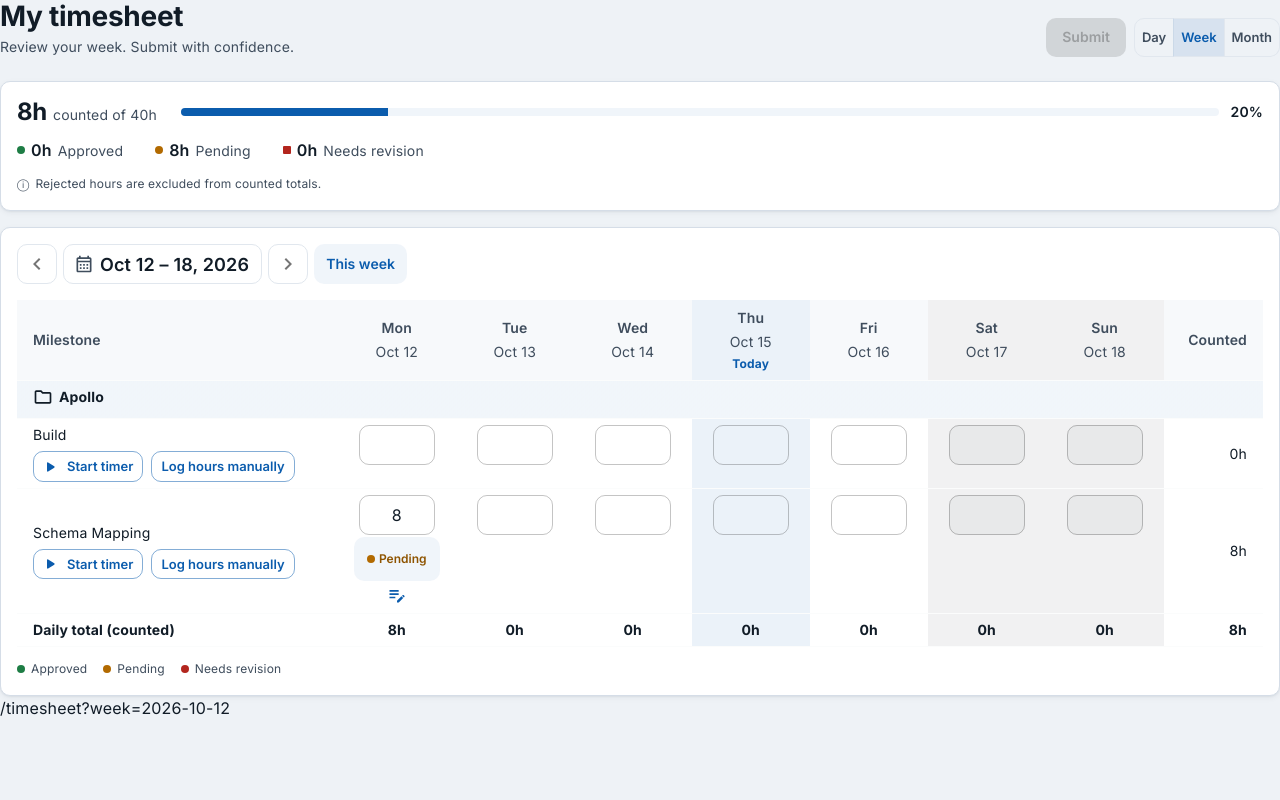
unsaved typing is kept in this tab › discarding on a week change removes that week's key
The width and height of the screenshot is (1280, 800).
Step 1. Type "9" into the field named "Schema Mapping, Tue Oct 13" → (515, 515), box [477,495,553,535]
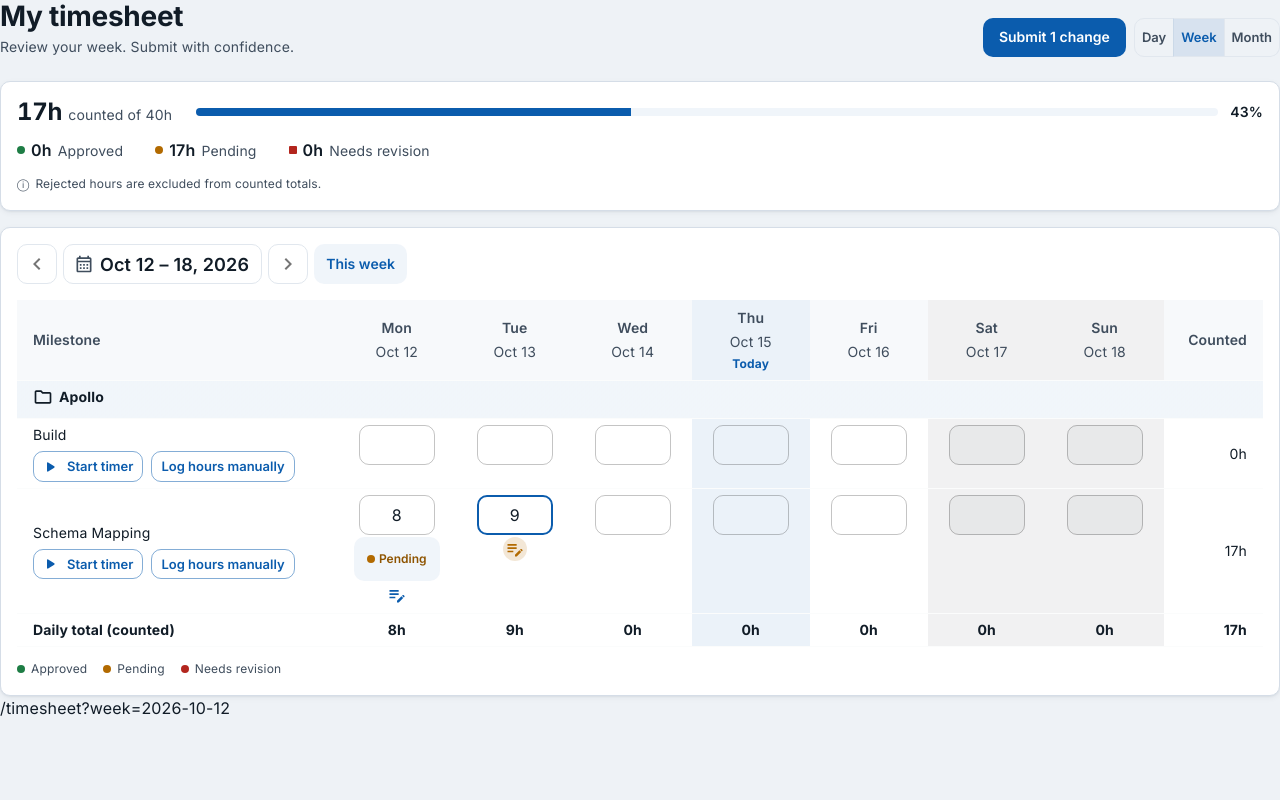
Step 2. Click the button named "Previous week" → (37, 264), box [17,244,57,284]
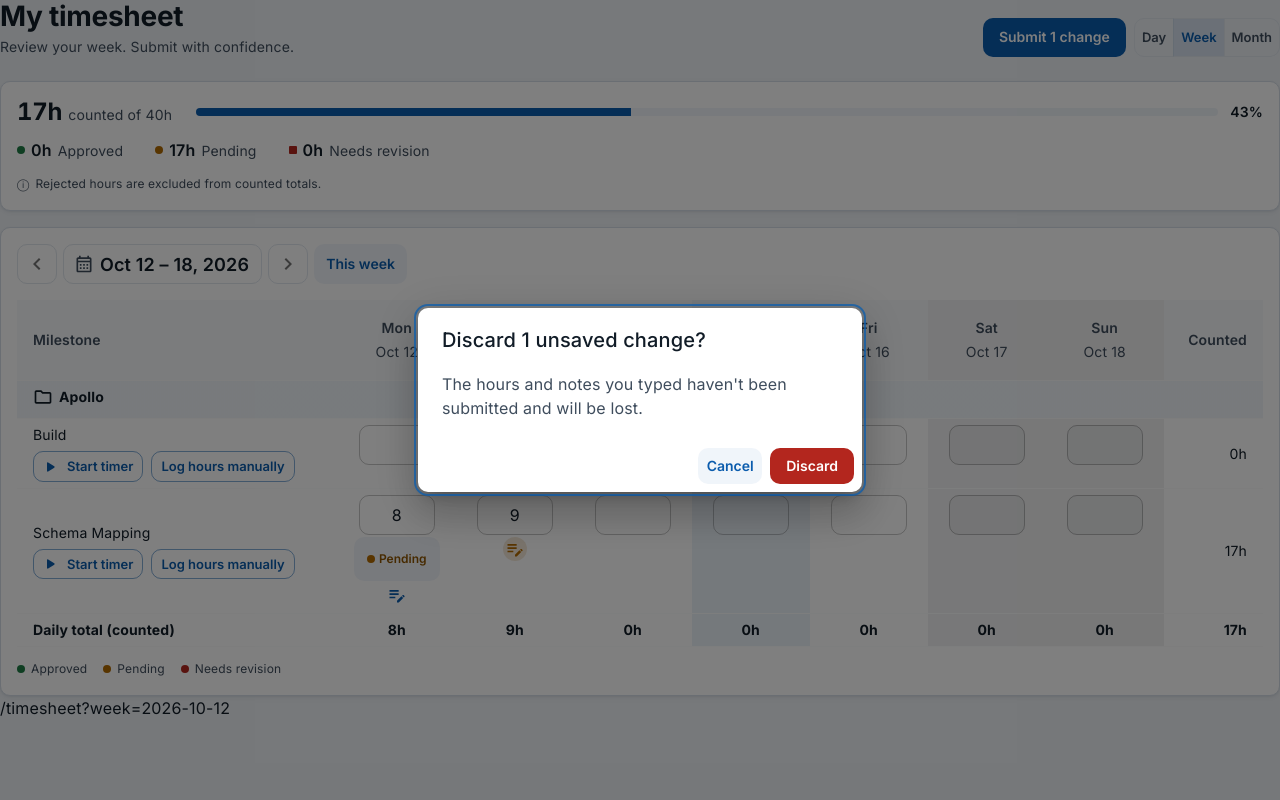
Step 3. Click the button "Discard" → (812, 466), box [770,448,854,484]
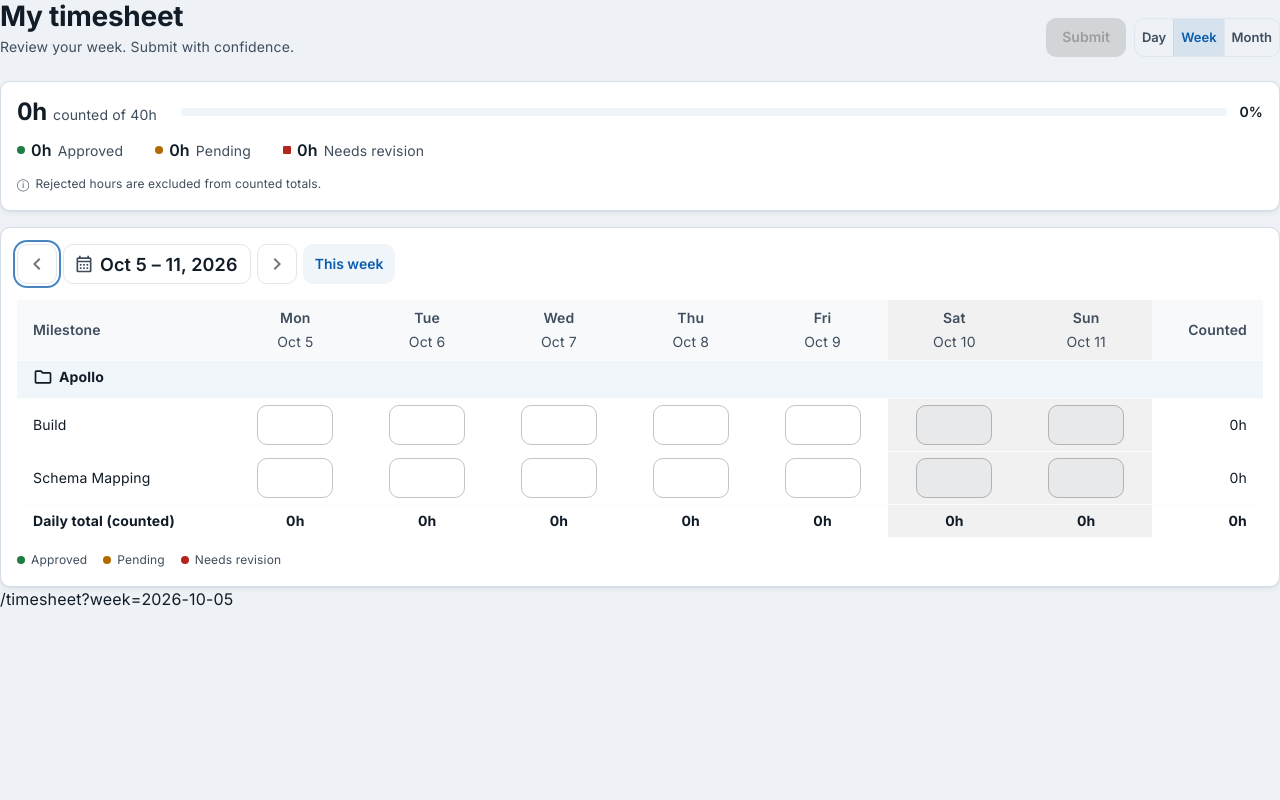
Expected: the heading "Oct 5 – 11, 2026" is shown, [100,254,238,275]
